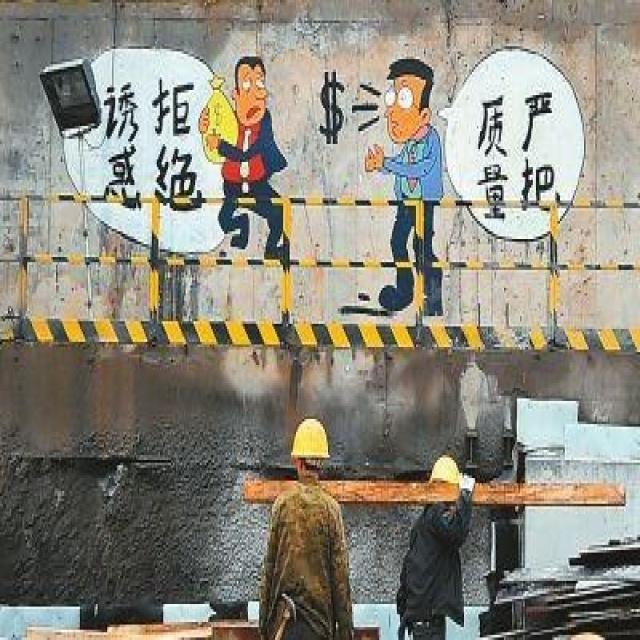helmet: (290, 560, 330, 640), (429, 600, 459, 640)
